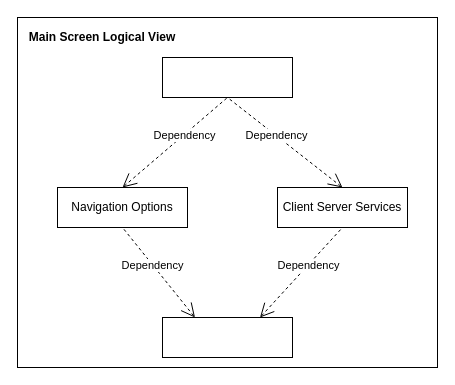
The diagram is 455 pixels wide and 385 high, and some of its shapes have lost their labels. Each missing label, with the box of its shape:
Basic Elements: (162, 316, 292, 358)
Display/User Interface: (162, 56, 292, 98)
